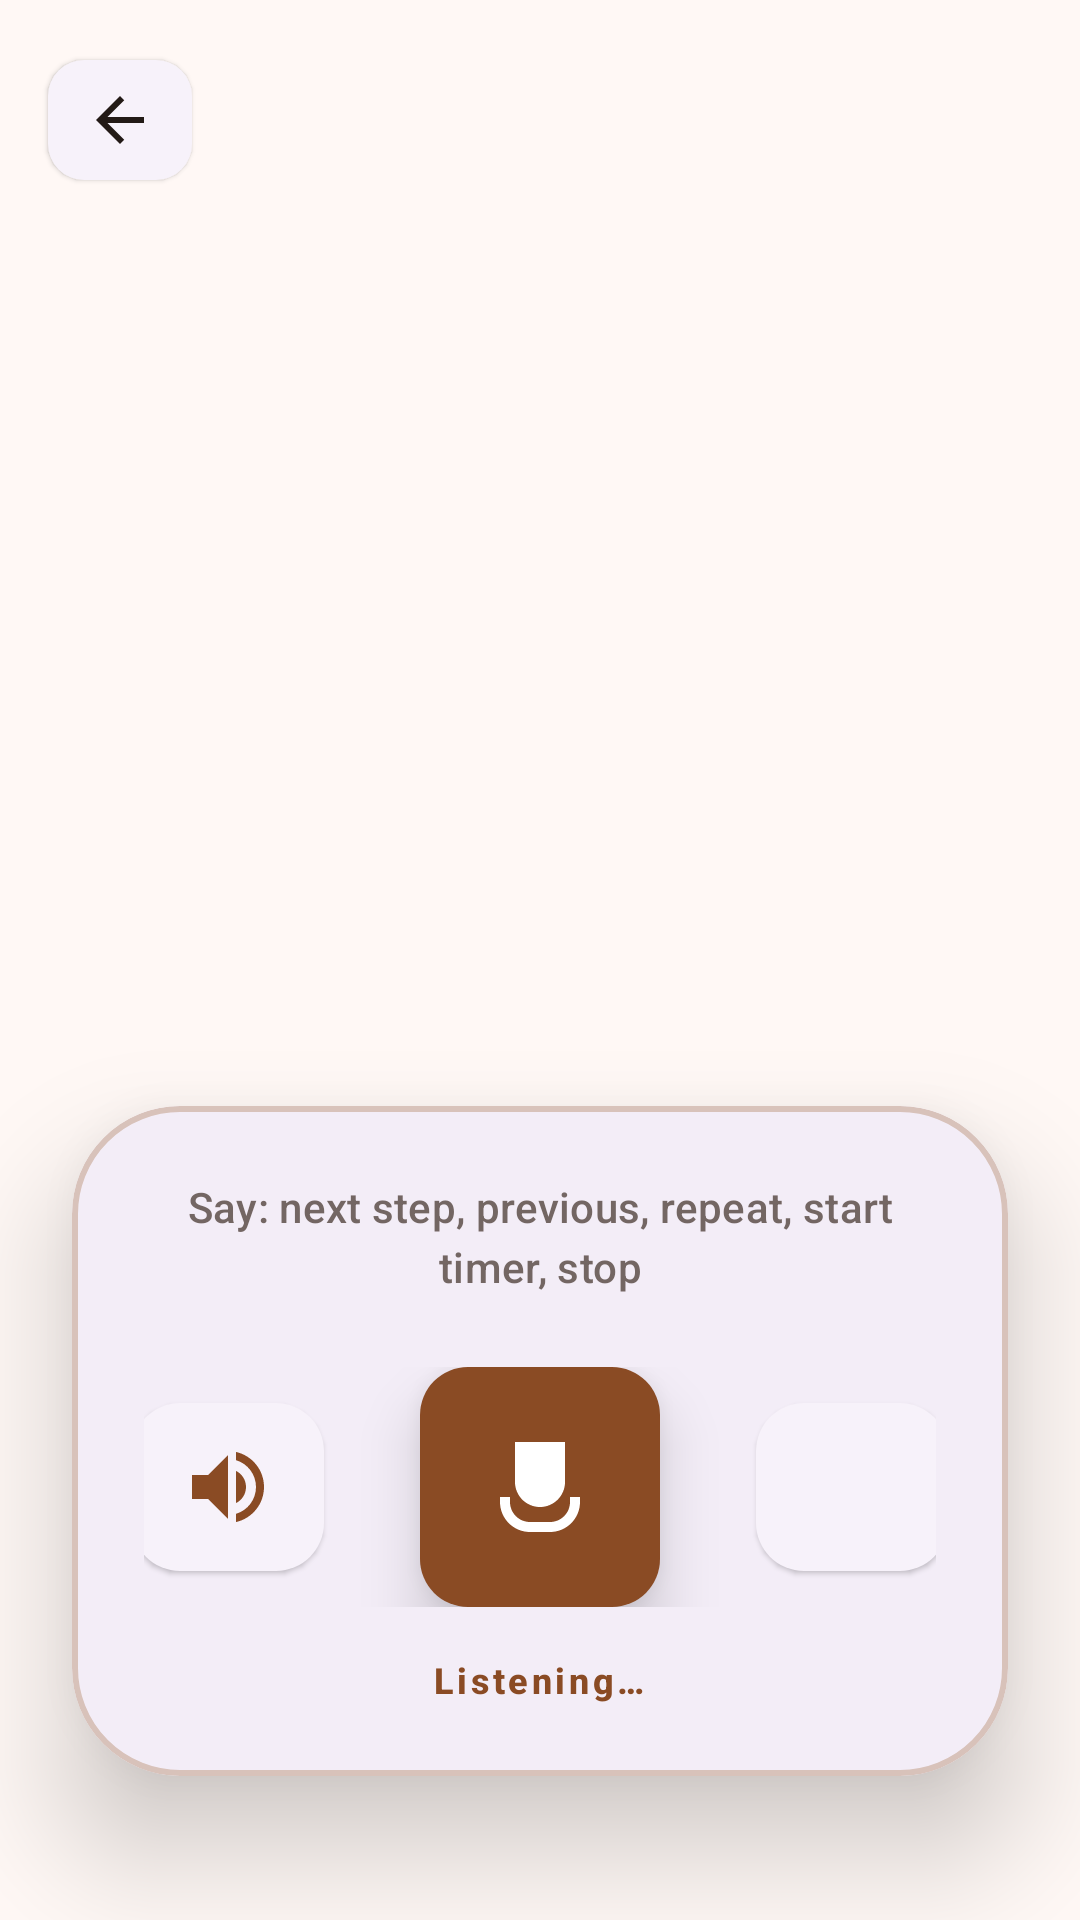

Where icons sit on this 1080px×1920px app screen, as (x1, y1, x2, y2):
arrow back: (48, 60, 165, 180)
mic: (420, 1367, 660, 1607)
volume up: (144, 1452, 316, 1573)
